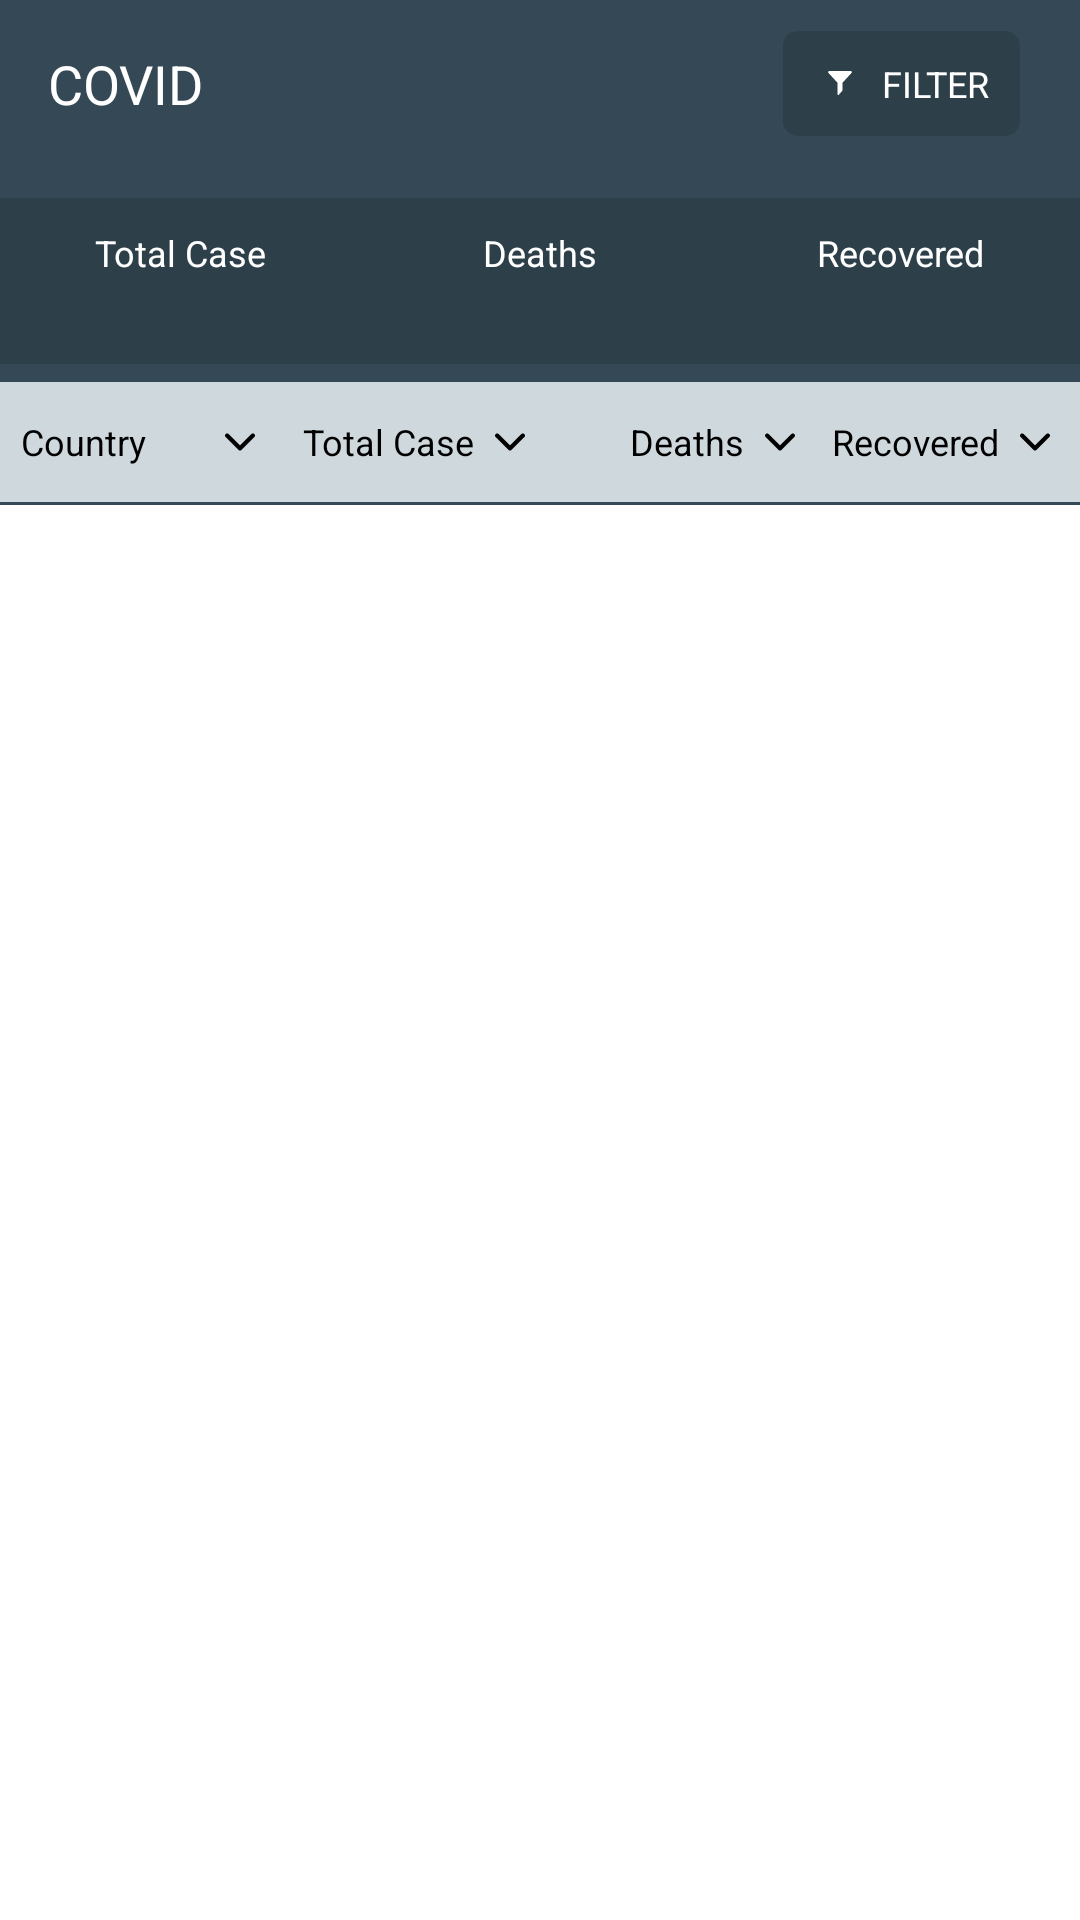

Where to tap for icons on this 1080px×1920px app screen, as (x=x, y=y):
arrow down: (x=240, y=442), (x=510, y=442), (x=780, y=442), (x=1035, y=442)
